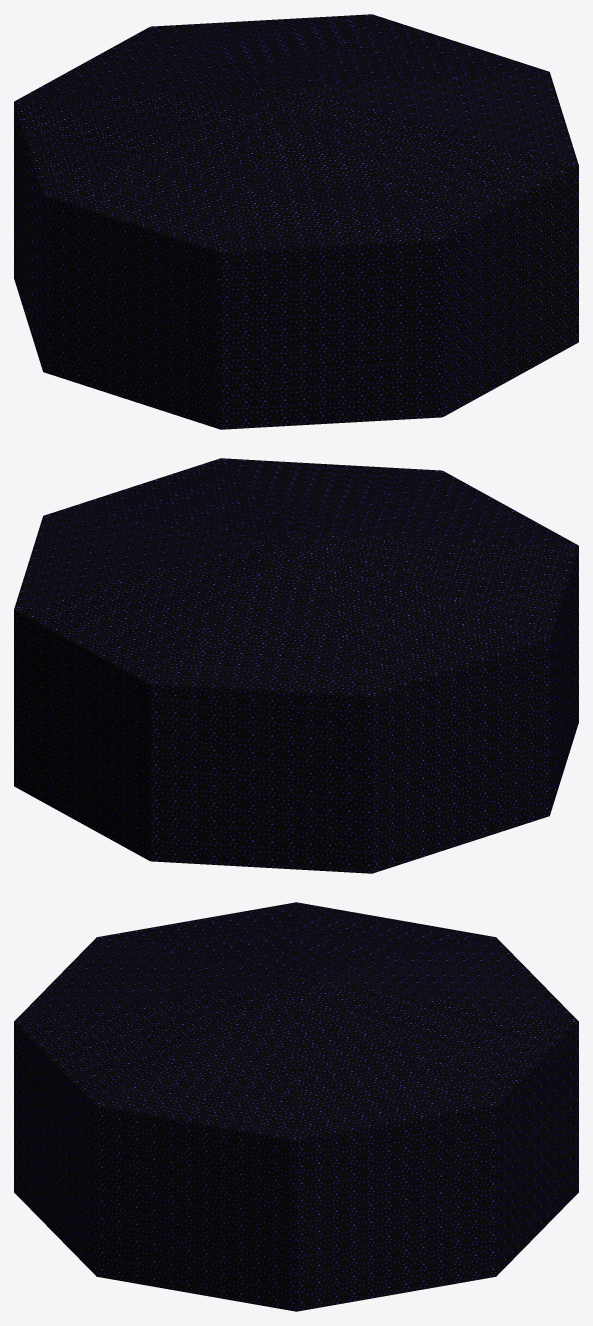
The model's file is smkds_rainbowroad.obj.
3 views of the same model, one above another, from view 1: azimuth 30°, elevation 25°; view 2: azimuth 150°, elevation 25°; view 3: azimuth 270°, elevation 25° (orthographic). The views are drawn at different scales.
Visible parts, largest first — view 1: Mesh2 Model; view 2: Mesh2 Model; view 3: Mesh2 Model.
Boxes of the visible parts, bbox=[...] form: Mesh2 Model: bbox=[14, 14, 578, 429]; Mesh2 Model: bbox=[14, 458, 578, 873]; Mesh2 Model: bbox=[14, 902, 578, 1311].
Size of the model in its own units: 7200 by 3600 by 7200.
6 materials, 5 textured.
